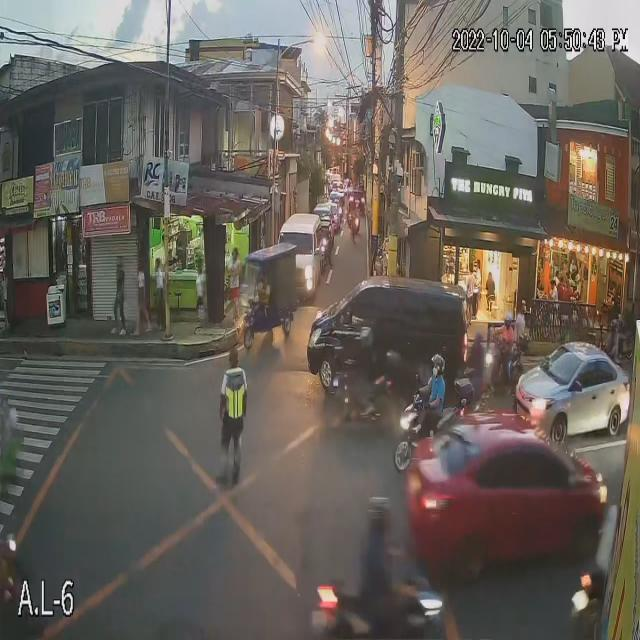helmet: (360, 498, 398, 532), (423, 354, 453, 386), (357, 326, 374, 347), (498, 312, 516, 330), (556, 310, 574, 328), (468, 329, 484, 348)
motorcycle: (311, 566, 453, 640), (380, 398, 470, 480), (327, 368, 390, 424), (448, 372, 494, 416), (476, 350, 520, 394)
rider: (351, 542, 402, 626), (410, 375, 454, 450), (355, 348, 377, 392), (500, 326, 520, 364), (556, 327, 578, 356), (465, 348, 486, 378)
